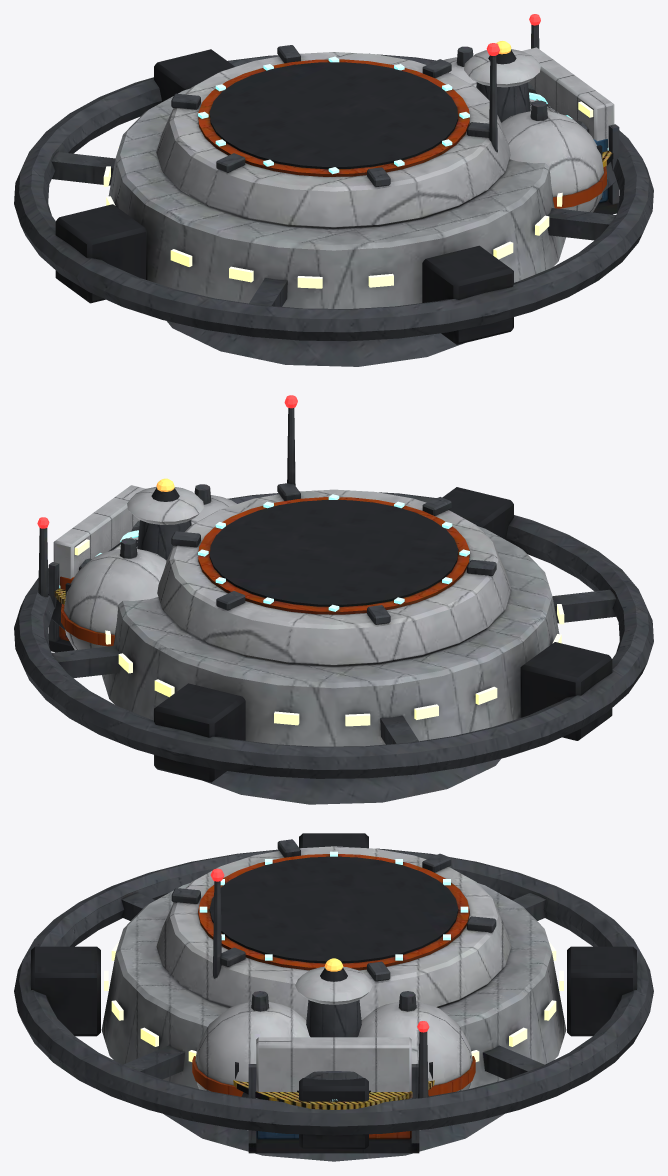
The model's file is station.glb.
3 views of the same model, one above another, from view 1: azimuth 30°, elevation 25°; view 2: azimuth 150°, elevation 25°; view 3: azimuth 270°, elevation 25° (orthographic).
Parts seen in each view (by area): view 1: CoreBody, FuelModuleBody, DroneBayModuleBody, TractorModuleBody, DrillModuleBody, CargoModuleBody, PortModuleBody; view 2: CoreBody, FuelModuleBody, DroneBayModuleBody, TractorModuleBody, DrillModuleBody, CargoModuleBody, PortModuleBody; view 3: CoreBody, FuelModuleBody, DroneBayModuleBody, CargoModuleBody, TractorModuleBody, PortModuleBody, DrillModuleBody.
Boxes of the visible parts, x1,y1,x2,y2 form: CoreBody: (14,45,653,366); FuelModuleBody: (443,46,606,212); DroneBayModuleBody: (522,47,614,147); TractorModuleBody: (464,49,587,129); DrillModuleBody: (476,50,602,199); CargoModuleBody: (593,124,619,214); PortModuleBody: (531,24,616,192); CoreBody: (14,408,653,804); FuelModuleBody: (61,484,236,650); DroneBayModuleBody: (53,485,145,585); TractorModuleBody: (80,486,203,567); DrillModuleBody: (65,487,191,637); CargoModuleBody: (48,562,74,652); PortModuleBody: (38,528,65,630); CoreBody: (14,833,653,1161); FuelModuleBody: (192,991,475,1130); DroneBayModuleBody: (256,1037,411,1098); CargoModuleBody: (248,1064,419,1153); TractorModuleBody: (295,966,372,1079); PortModuleBody: (233,1031,434,1135); DrillModuleBody: (235,968,432,1079).
Size of the model in its own units: 8.24 by 3.74 by 8.24.
14 materials, 8 textured.
